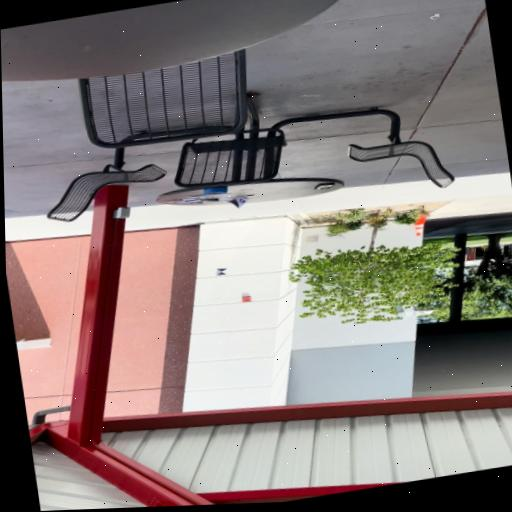target6: (215, 268, 227, 275)
